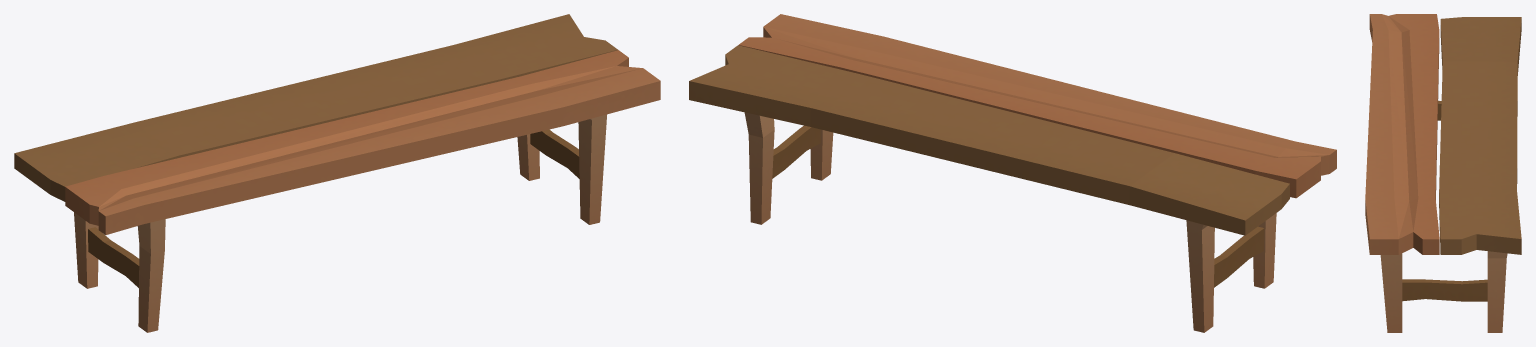
File: Bench.fbx
3 renders of one model, left to right at view 1: azimuth 30°, elevation 25°; view 2: azimuth 150°, elevation 25°; view 3: azimuth 270°, elevation 25°, orthographic. The views are drawn at different scales.
Parts seen in each view (by area): view 1: Bench; view 2: Bench; view 3: Bench.
Part boxes in pixels (x1,y1,x2,y2): Bench: [14, 14, 660, 332]; Bench: [689, 14, 1336, 332]; Bench: [1365, 14, 1521, 332].
Size of the model in its own units: 2.14 by 0.5056 by 0.628.
1 material, 1 textured.
